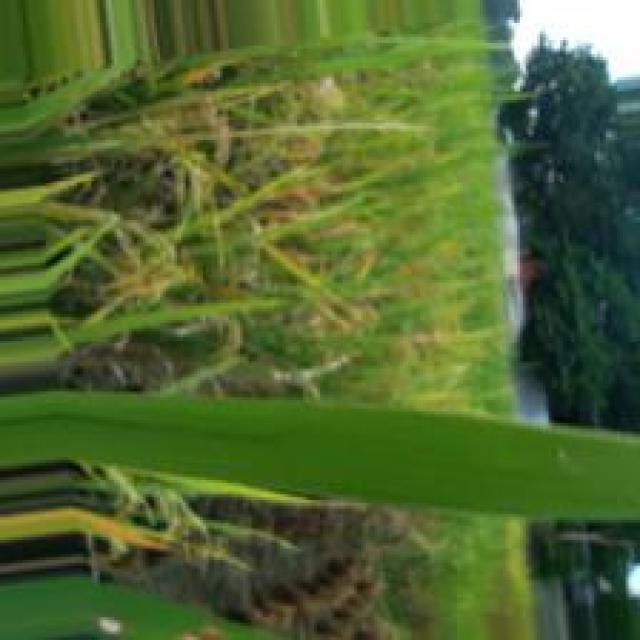HealthyLeaf: (0, 385, 640, 524)
